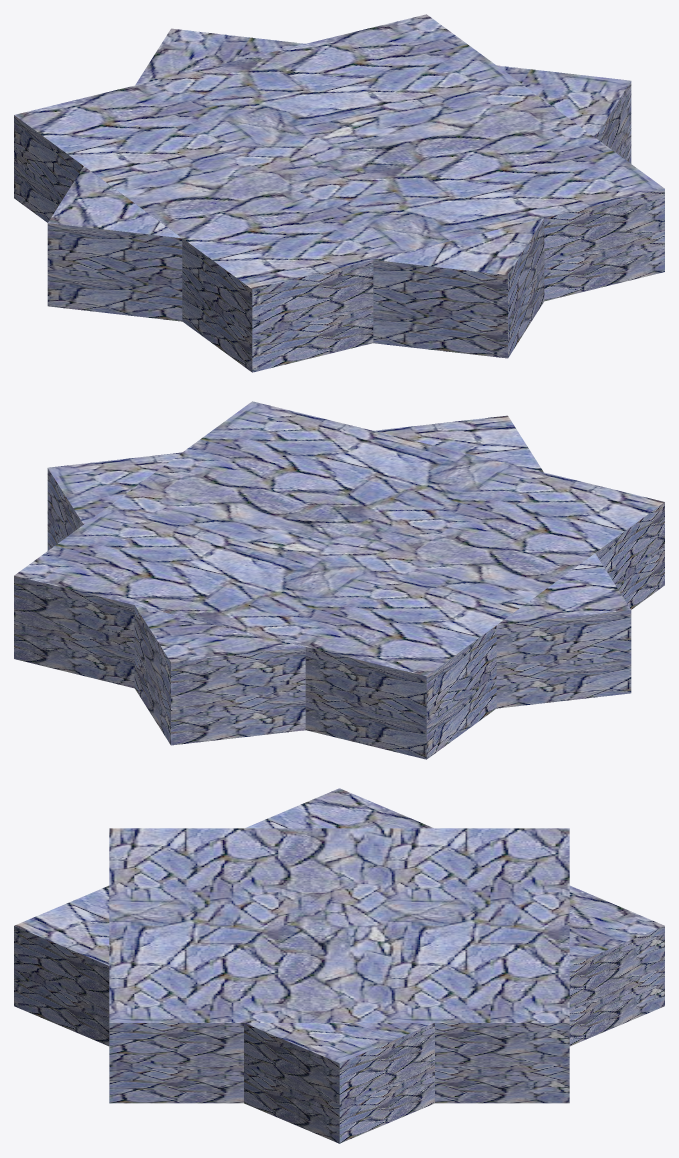
Rendered from StatusChanger_Base_Obj.fbx.
The picture shows the model from 3 angles, top to bottom: view 1: azimuth 30°, elevation 25°; view 2: azimuth 150°, elevation 25°; view 3: azimuth 270°, elevation 25°; orthographic projection. The views are drawn at different scales.
Visible parts, largest first — view 1: Cube; view 2: Cube; view 3: Cube.
Boxes of the visible parts, left/top/right/bottom form: Cube: left=14, top=14, right=664, bottom=372; Cube: left=14, top=401, right=664, bottom=759; Cube: left=14, top=788, right=664, bottom=1143.
Bounding box in the file's own units: 2.83 × 0.386 × 2.83.
